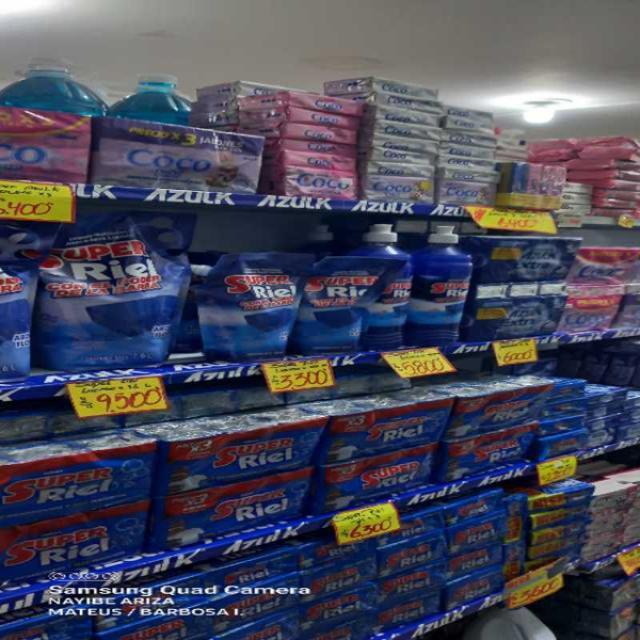Super_Riel: (348, 219, 412, 349), (411, 224, 474, 347)
